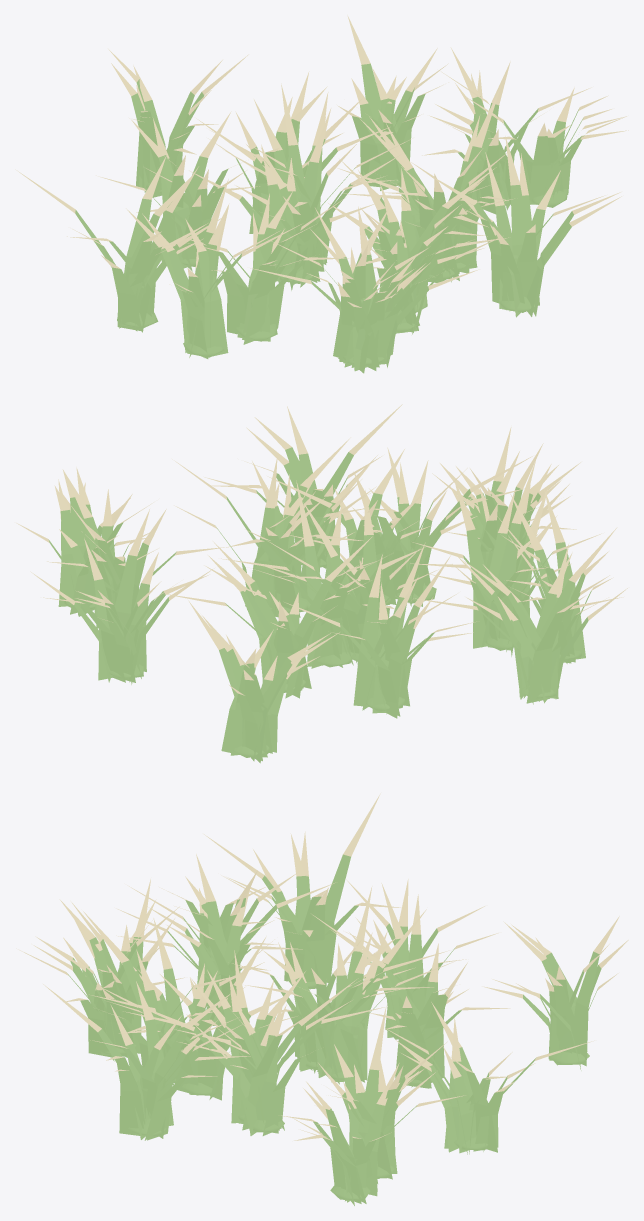
File: Blender_LakeDuneGrass_3.glb
3 renders of one model, top to bottom at view 1: azimuth 30°, elevation 25°; view 2: azimuth 150°, elevation 25°; view 3: azimuth 270°, elevation 25°, orthographic.
Parts seen in each view (by area): view 1: Blender_LakeDuneGrass_3; view 2: Blender_LakeDuneGrass_3; view 3: Blender_LakeDuneGrass_3.
Boxes of the visible parts, x1,y1,x2,y2 form: Blender_LakeDuneGrass_3: [15, 15, 628, 373]; Blender_LakeDuneGrass_3: [16, 404, 627, 763]; Blender_LakeDuneGrass_3: [16, 793, 628, 1205].
Size of the model in its own units: 3.47 by 0.8638 by 3.22.
